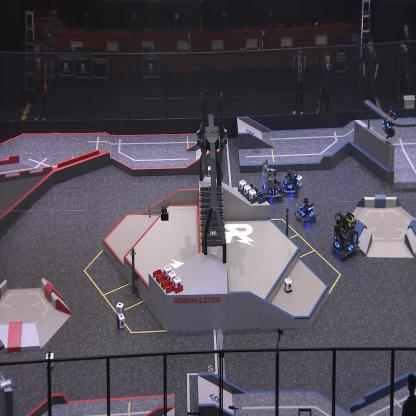car: (331, 209, 360, 257), (262, 159, 282, 200), (294, 195, 318, 226), (281, 168, 299, 198)
